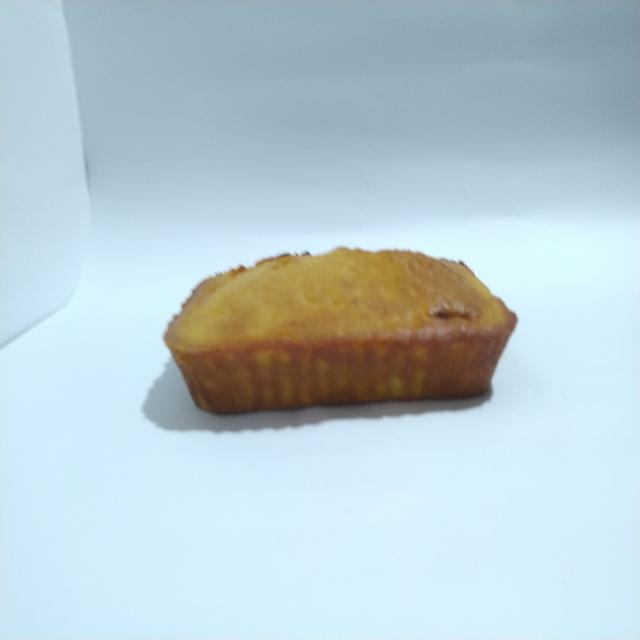Sopa: (154, 239, 526, 433)
